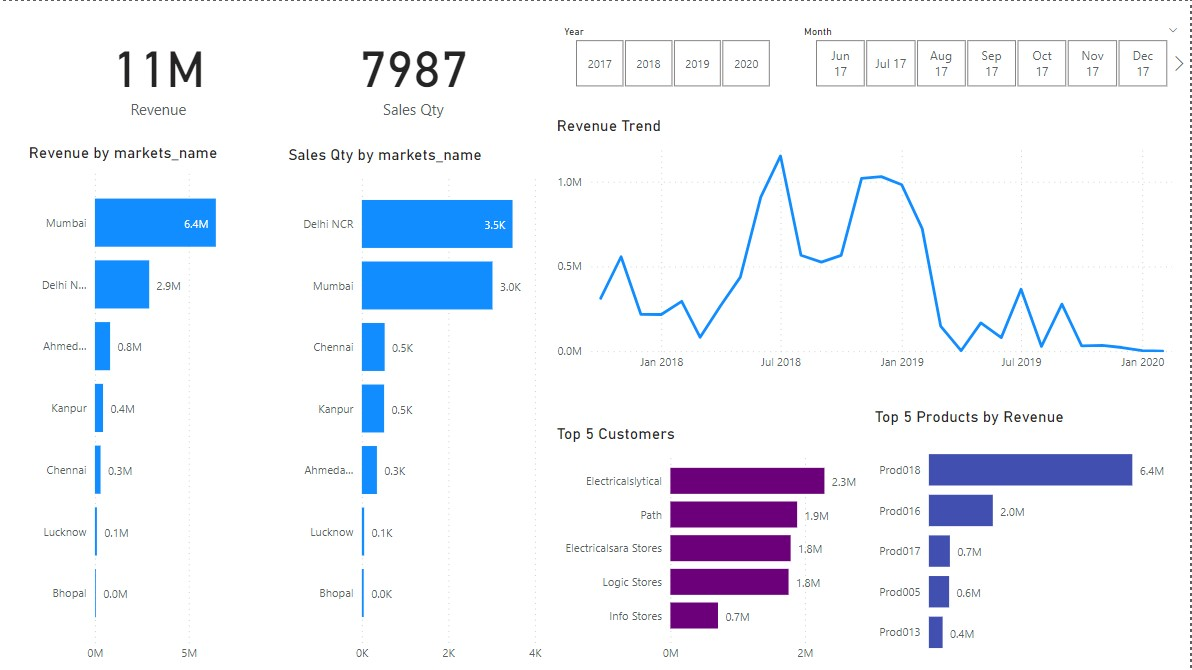

Layout of this report page (visuals, bound fields, positions):
{"tool":"powerbi","page":{"name":"Page 1","canvas":[1280,720],"ordinal":0},"visuals":[{"type":"card","fields":{"Values":["BaseMeasures.Sales Qty"]},"box":[277.4,0,333.9,154.8],"z":0},{"type":"actionButton","box":[0,0,100,40],"z":1000},{"type":"card","fields":{"Values":["BaseMeasures.Revenue"]},"box":[1.6,0,337.1,154.8],"z":2000},{"type":"barChart","title":"Top 5  Customers","fields":{"Y":["BaseMeasures.Revenue"],"Category":["SI_Customers.customer_name"]},"box":[593.5,454.8,358.1,264.5],"z":3000},{"type":"slicer","fields":{"Values":["SI_Date.year"]},"box":[593.5,21,258.1,77.4],"z":4000},{"type":"slicer","fields":{"Values":["SI_Date.cy_date"]},"box":[851.6,21,427.4,77.4],"z":5000},{"type":"barChart","fields":{"Y":["BaseMeasures.Sales Qty"],"Category":["SI_Markets.markets_name"]},"box":[304.8,154.8,282.3,564.5],"z":6000},{"type":"barChart","fields":{"Category":["SI_Markets.markets_name"],"Y":["BaseMeasures.Revenue"]},"box":[25.8,153.2,251.6,566.1],"z":7000},{"type":"barChart","title":"Top 5 Products by Revenue","fields":{"Y":["BaseMeasures.Revenue"],"Category":["SI_Products.product_code"]},"box":[935.5,437.1,343.5,282.3],"z":8000},{"type":"lineChart","title":"Revenue Trend","fields":{"Y":["BaseMeasures.Revenue"],"Category":["SI_Date.cy_date"]},"box":[593.5,124.2,685.5,282.3],"z":9000}]}

Visuals, with their boxes in screenshot pixels (x1, y1, x2, y2), scaled from the page's 1280x720 canvas onto the 1192x670 screenshot:
card - BaseMeasures.Sales Qty: Rect(258, 0, 569, 144)
actionButton: Rect(0, 0, 93, 37)
card - BaseMeasures.Revenue: Rect(1, 0, 315, 144)
"Top 5  Customers" barChart: Rect(553, 423, 886, 669)
slicer - SI_Date.year: Rect(553, 20, 793, 92)
slicer - SI_Date.cy_date: Rect(793, 20, 1191, 92)
barChart - BaseMeasures.Sales Qty x SI_Markets.markets_name: Rect(284, 144, 547, 669)
barChart - SI_Markets.markets_name x BaseMeasures.Revenue: Rect(24, 143, 258, 669)
"Top 5 Products by Revenue" barChart: Rect(871, 407, 1191, 669)
"Revenue Trend" lineChart: Rect(553, 116, 1191, 378)
